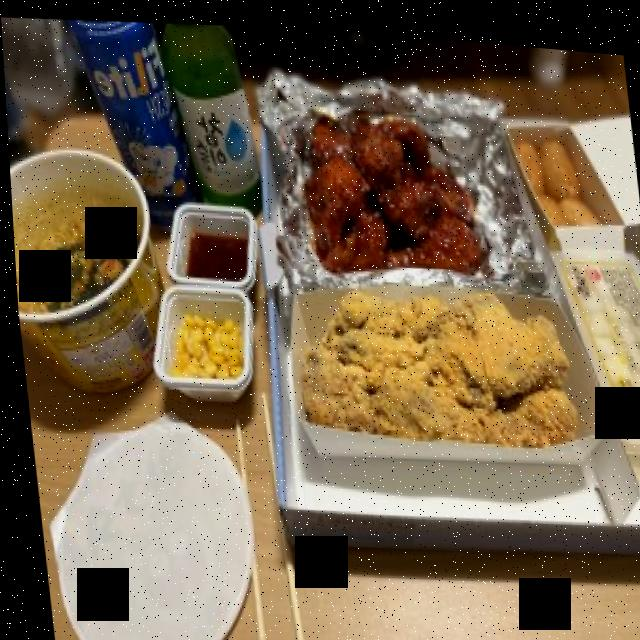Frango: (293, 89, 476, 281)
